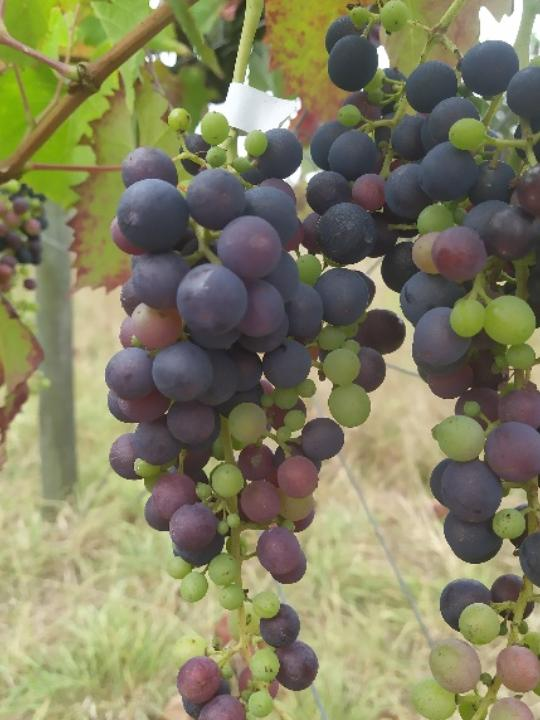grape: (90, 103, 405, 720), (322, 0, 540, 720)
